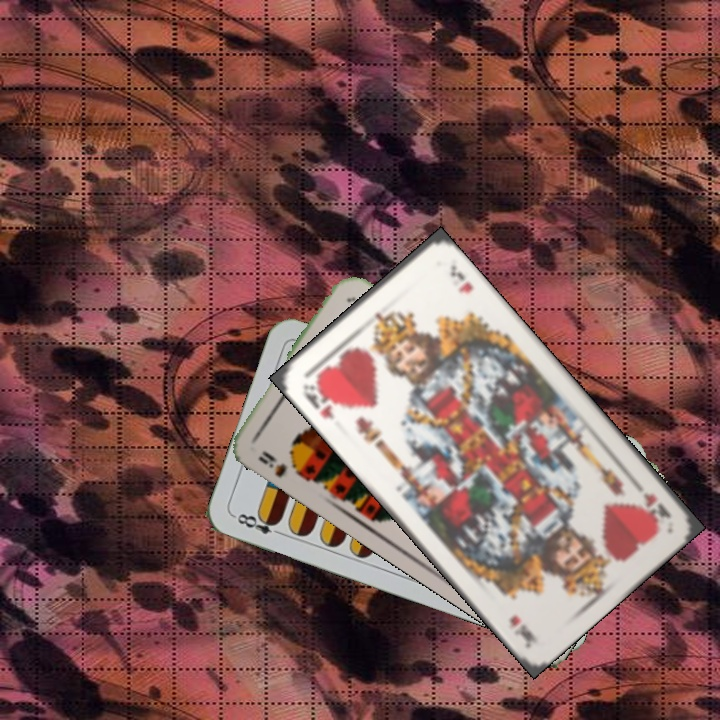E8: (230, 509, 287, 539)
HK: (627, 476, 674, 524), (298, 378, 338, 423)
S9: (254, 446, 306, 480)
